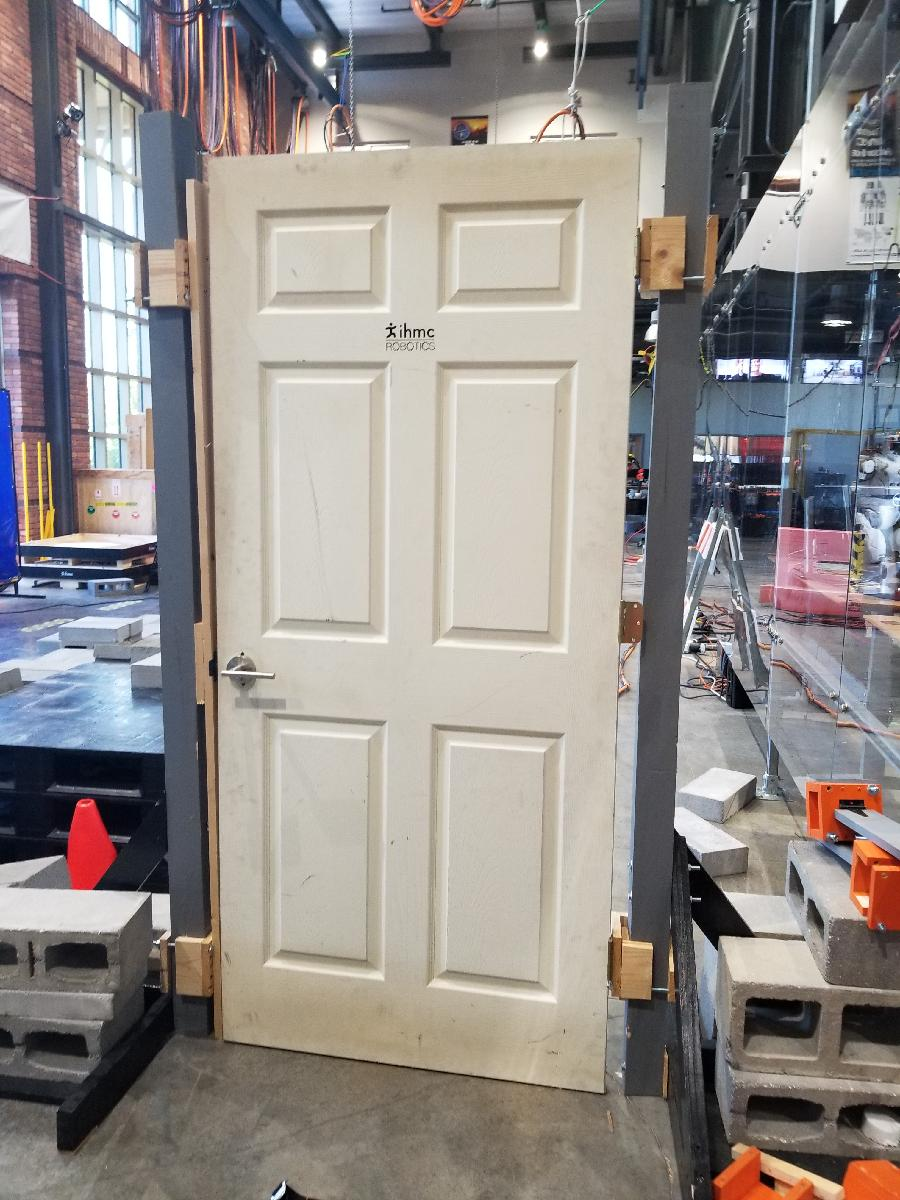door: (205, 134, 650, 1102)
doorHandle: (220, 657, 278, 690)
